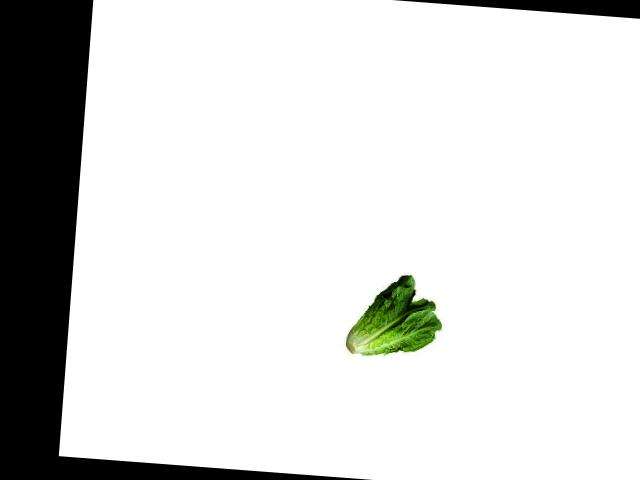lettuce: (339, 266, 445, 368)
